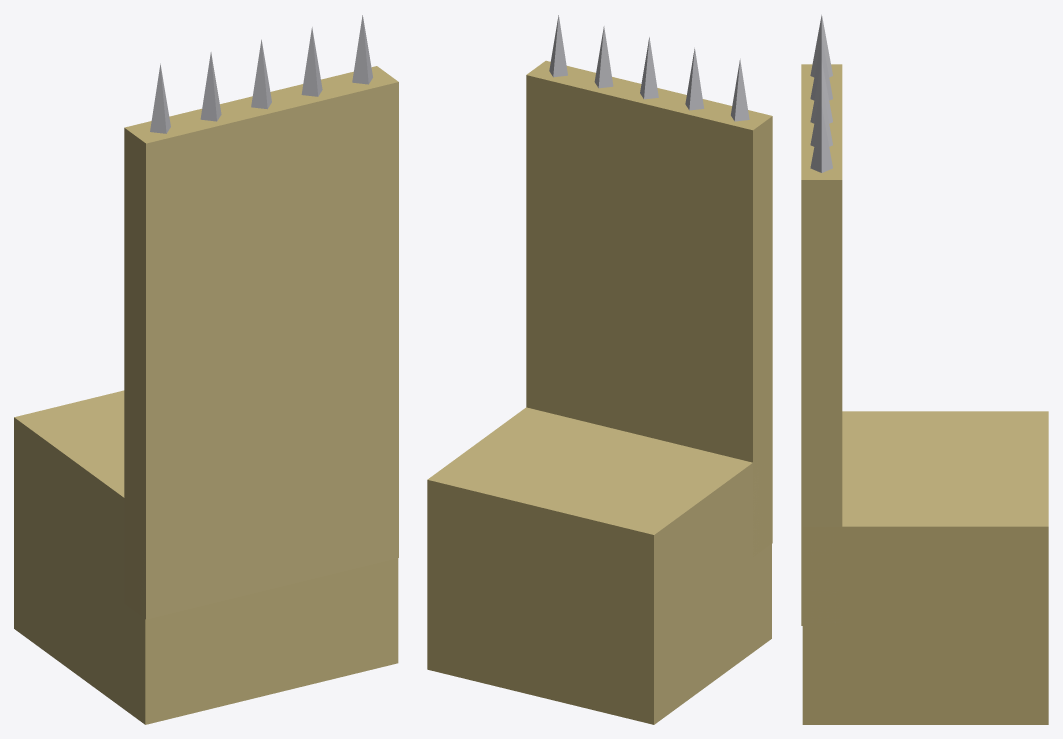
Rendered from furn_throne.glb.
3 renders of one model, left to right at view 1: azimuth 30°, elevation 25°; view 2: azimuth 150°, elevation 25°; view 3: azimuth 270°, elevation 25°, orthographic. The views are drawn at different scales.
Visible parts, largest first — view 1: furn_throne2; view 2: furn_throne2; view 3: furn_throne2.
Boxes of the visible parts, left/top/right/bottom form: furn_throne2: left=14, top=15, right=398, bottom=724; furn_throne2: left=427, top=15, right=772, bottom=724; furn_throne2: left=801, top=14, right=1048, bottom=724.
Size of the model in its own units: 1 by 2.45 by 0.905.
